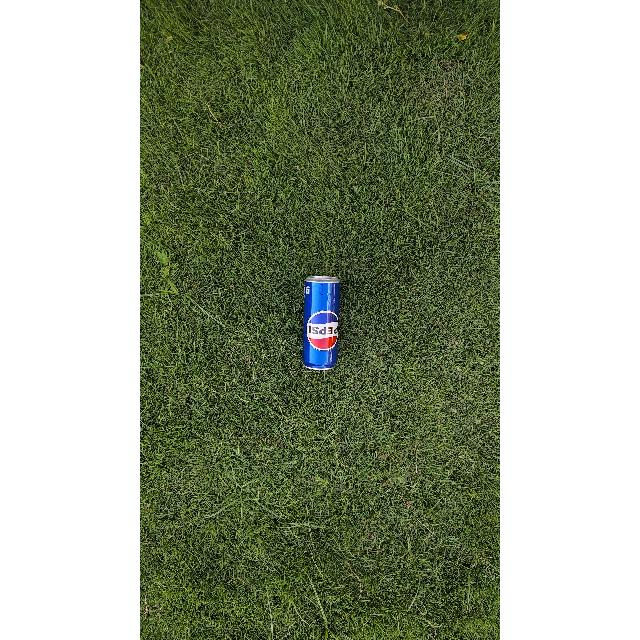Pepsi: (297, 276, 339, 366)
